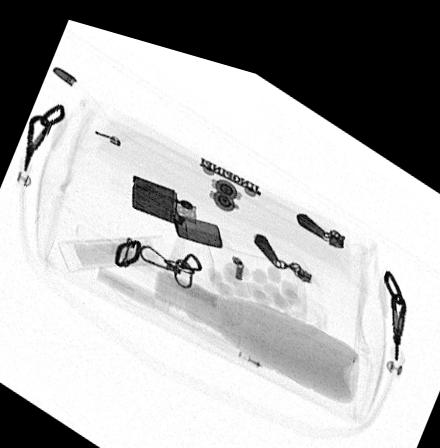Lighter: (130, 165, 224, 234)
